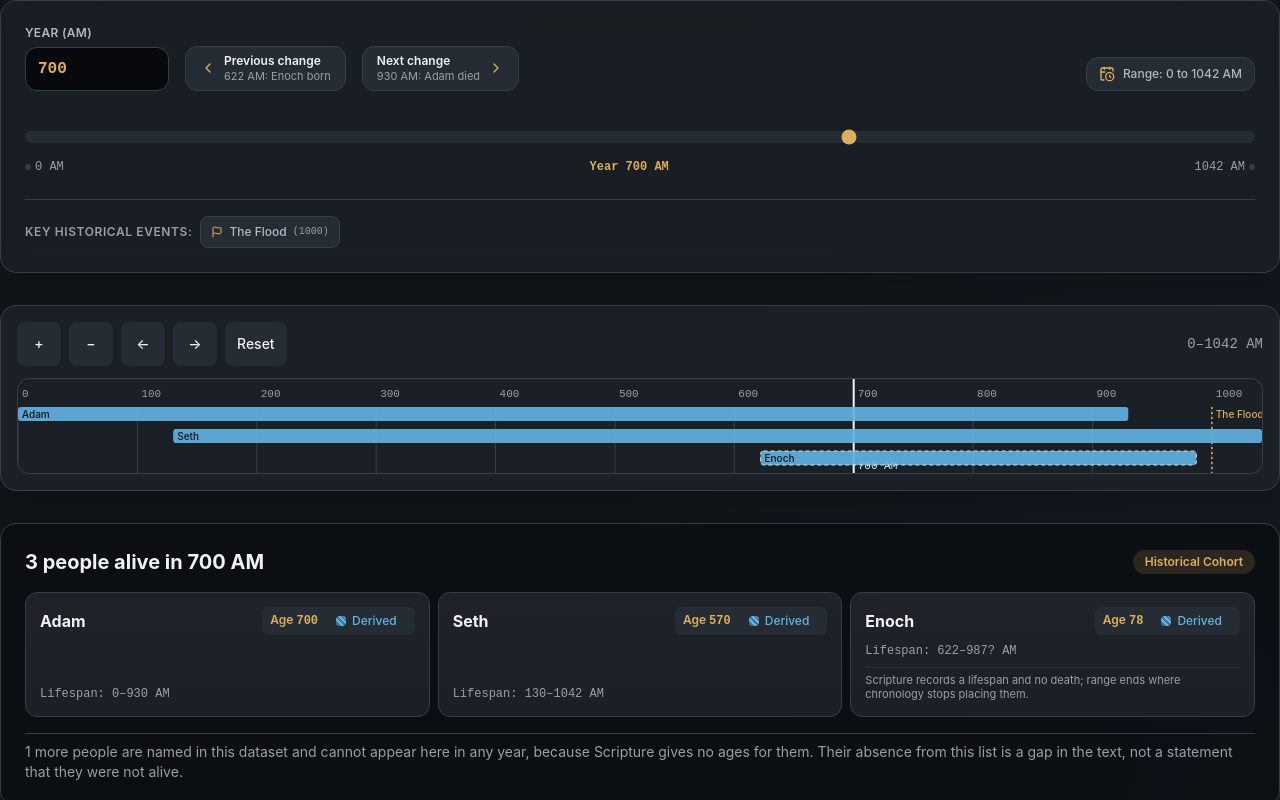
it: YearExplorer › will not accept a year outside the range
The width and height of the screenshot is (1280, 800).
Replace the text in the number field labelled "Year (AM)" with "99999" at x=97, y=69, box x1=25 y1=47 x2=169 y2=91
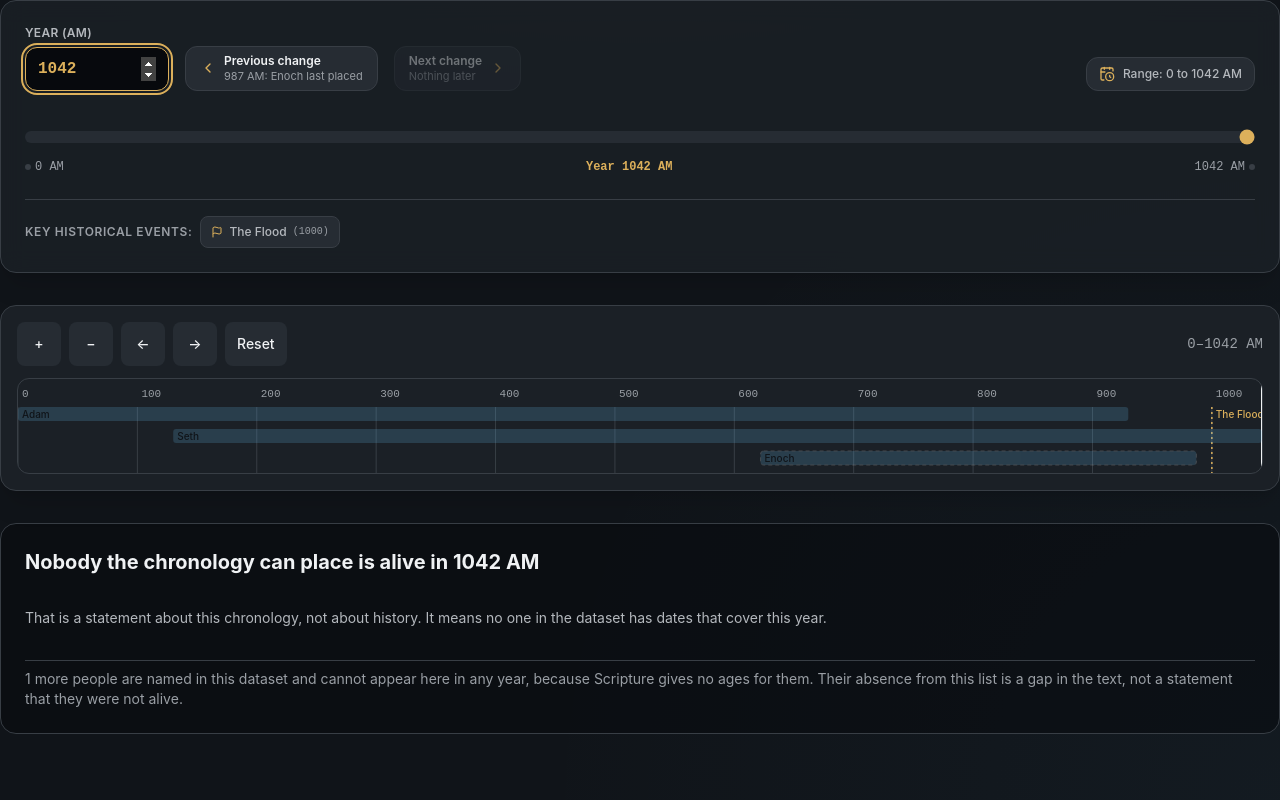
Now the heading with test id "living-heading" shows "1042 AM", box x1=25 y1=550 x2=540 y2=574
